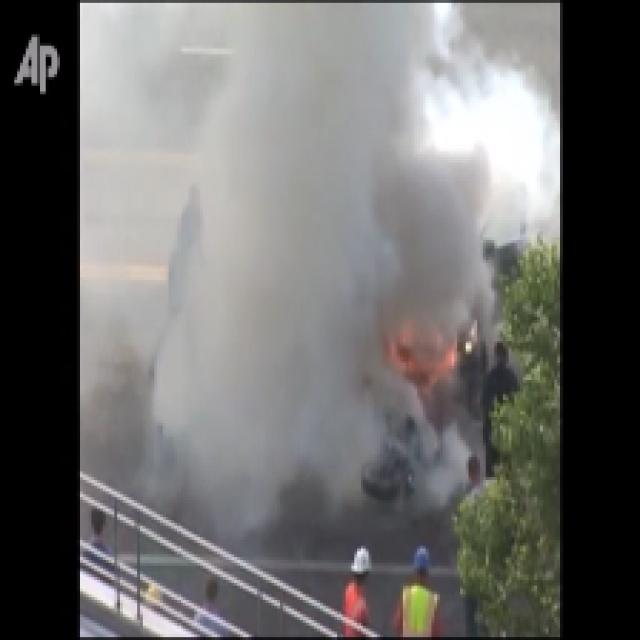smoke: (161, 5, 467, 498)
